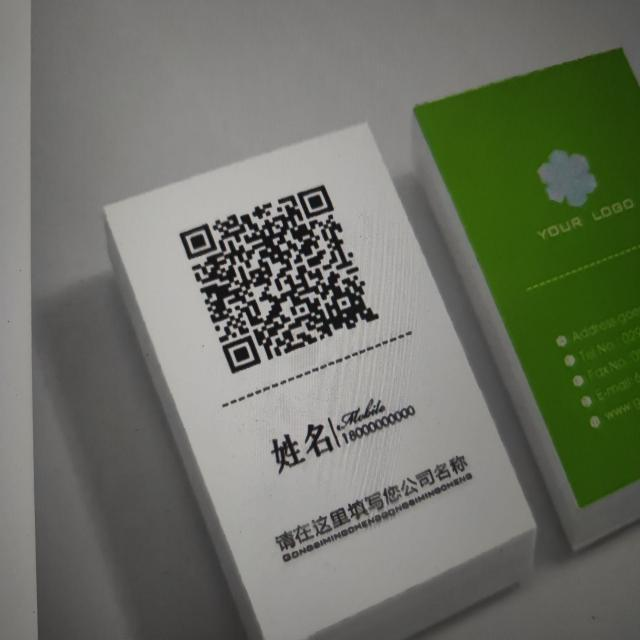qr_code: (181, 185, 379, 374)
